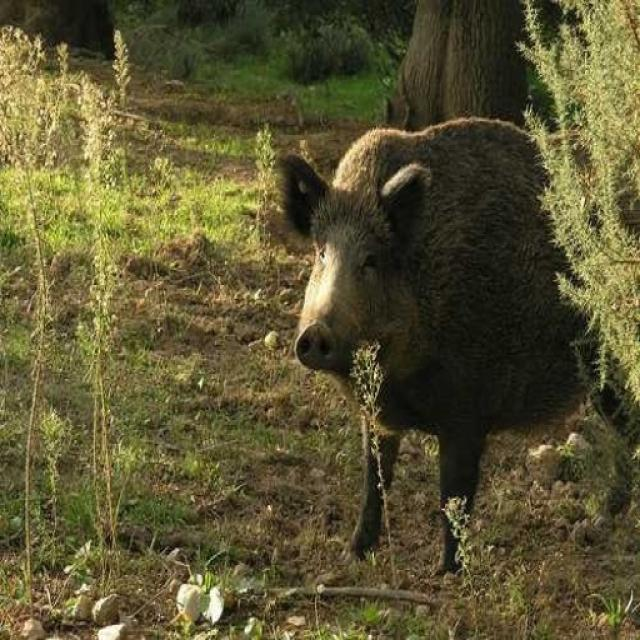pig: (255, 41, 640, 576)
